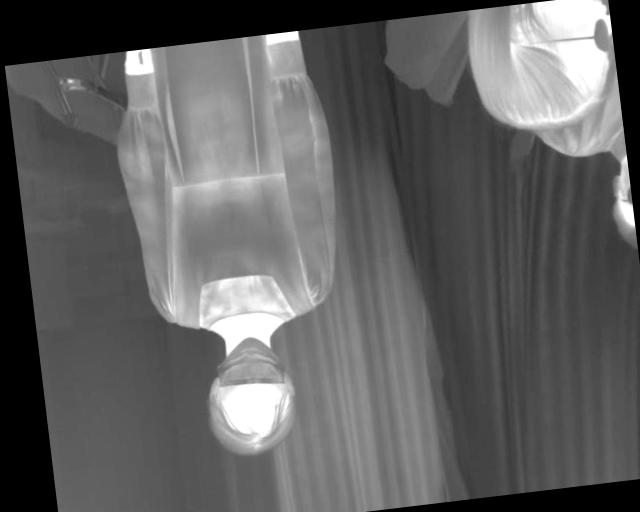face: (196, 329, 303, 461)
